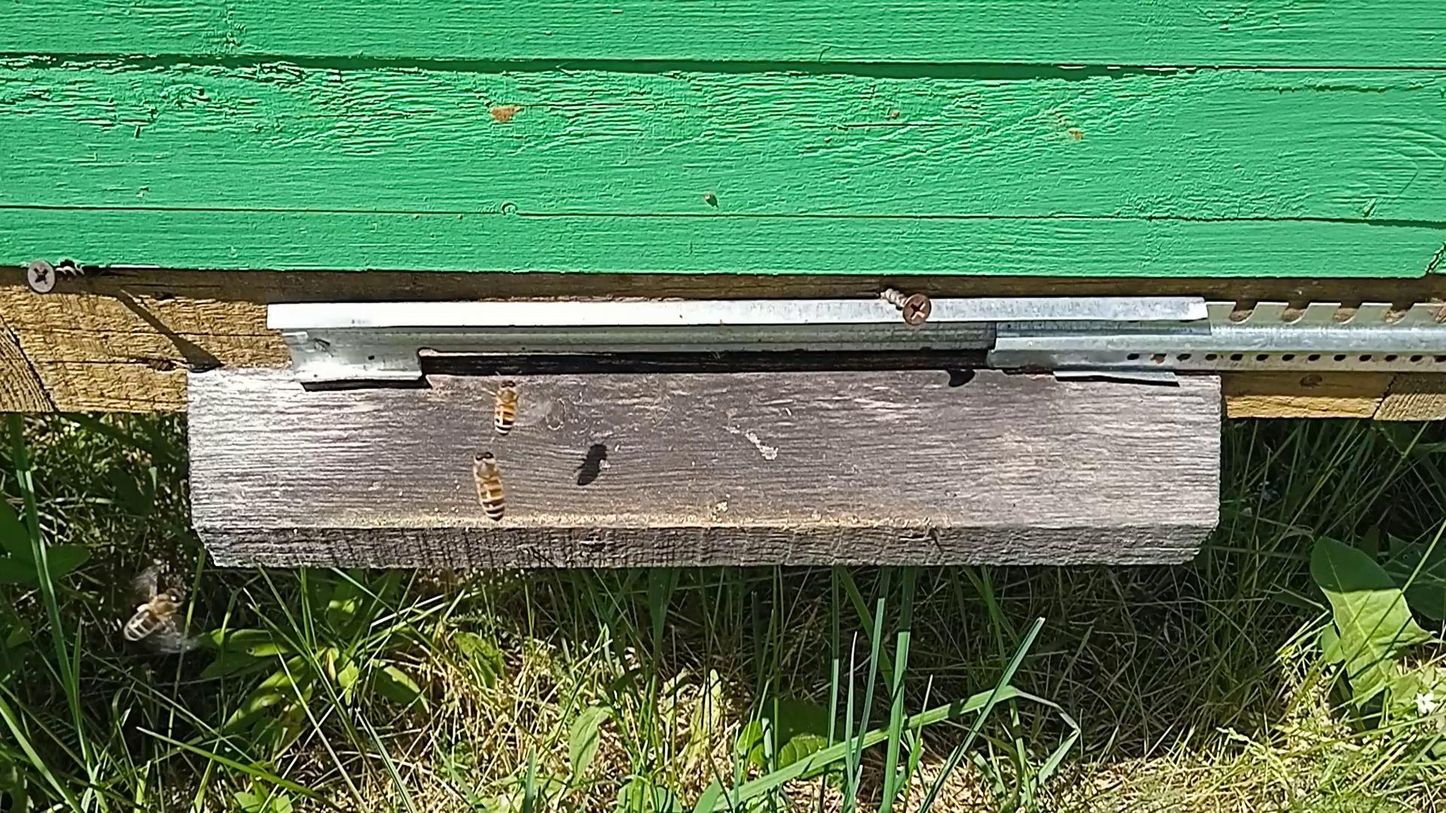worker-bee: (124, 588, 185, 642), (470, 448, 508, 523), (492, 378, 520, 438)
